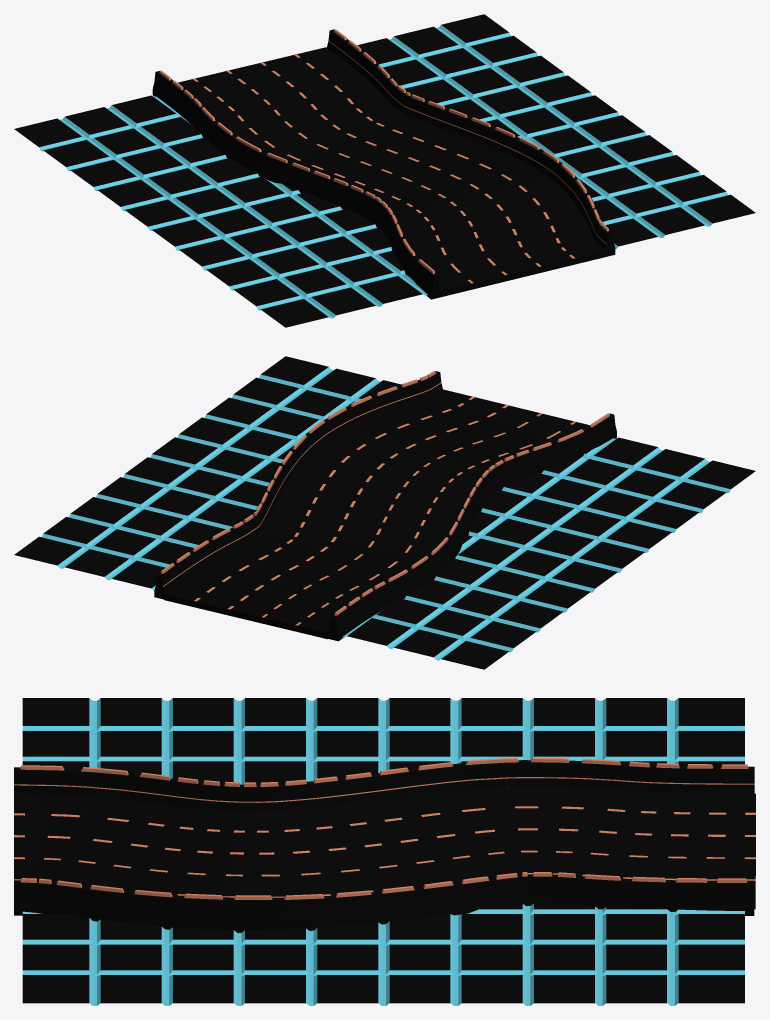
Rendered from road_tile_1.fbx.
3 renders of one model, top to bottom at view 1: azimuth 30°, elevation 25°; view 2: azimuth 150°, elevation 25°; view 3: azimuth 270°, elevation 25°, orthographic. The views are drawn at different scales.
Parts seen in each view (by area): view 1: Plane, Cube.048, Cube.051; view 2: Plane, Cube.048, Cube.051; view 3: Plane, Cube.048, Cube.051.
Part boxes in pixels (x1,y1,x2,y2): Plane: (14, 14, 755, 327); Cube.048: (178, 47, 604, 296); Cube.051: (152, 29, 615, 299); Plane: (14, 356, 755, 669); Cube.048: (164, 389, 589, 639); Cube.051: (154, 371, 616, 641); Plane: (22, 698, 744, 1005); Cube.048: (14, 787, 755, 909); Cube.051: (14, 758, 754, 932).
Size of the model in its own units: 200 by 11.32 by 205.
